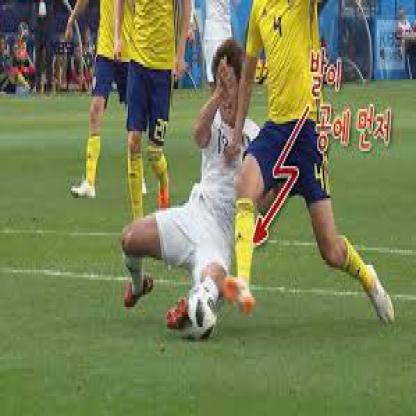Fall_Down: (118, 35, 287, 333)
